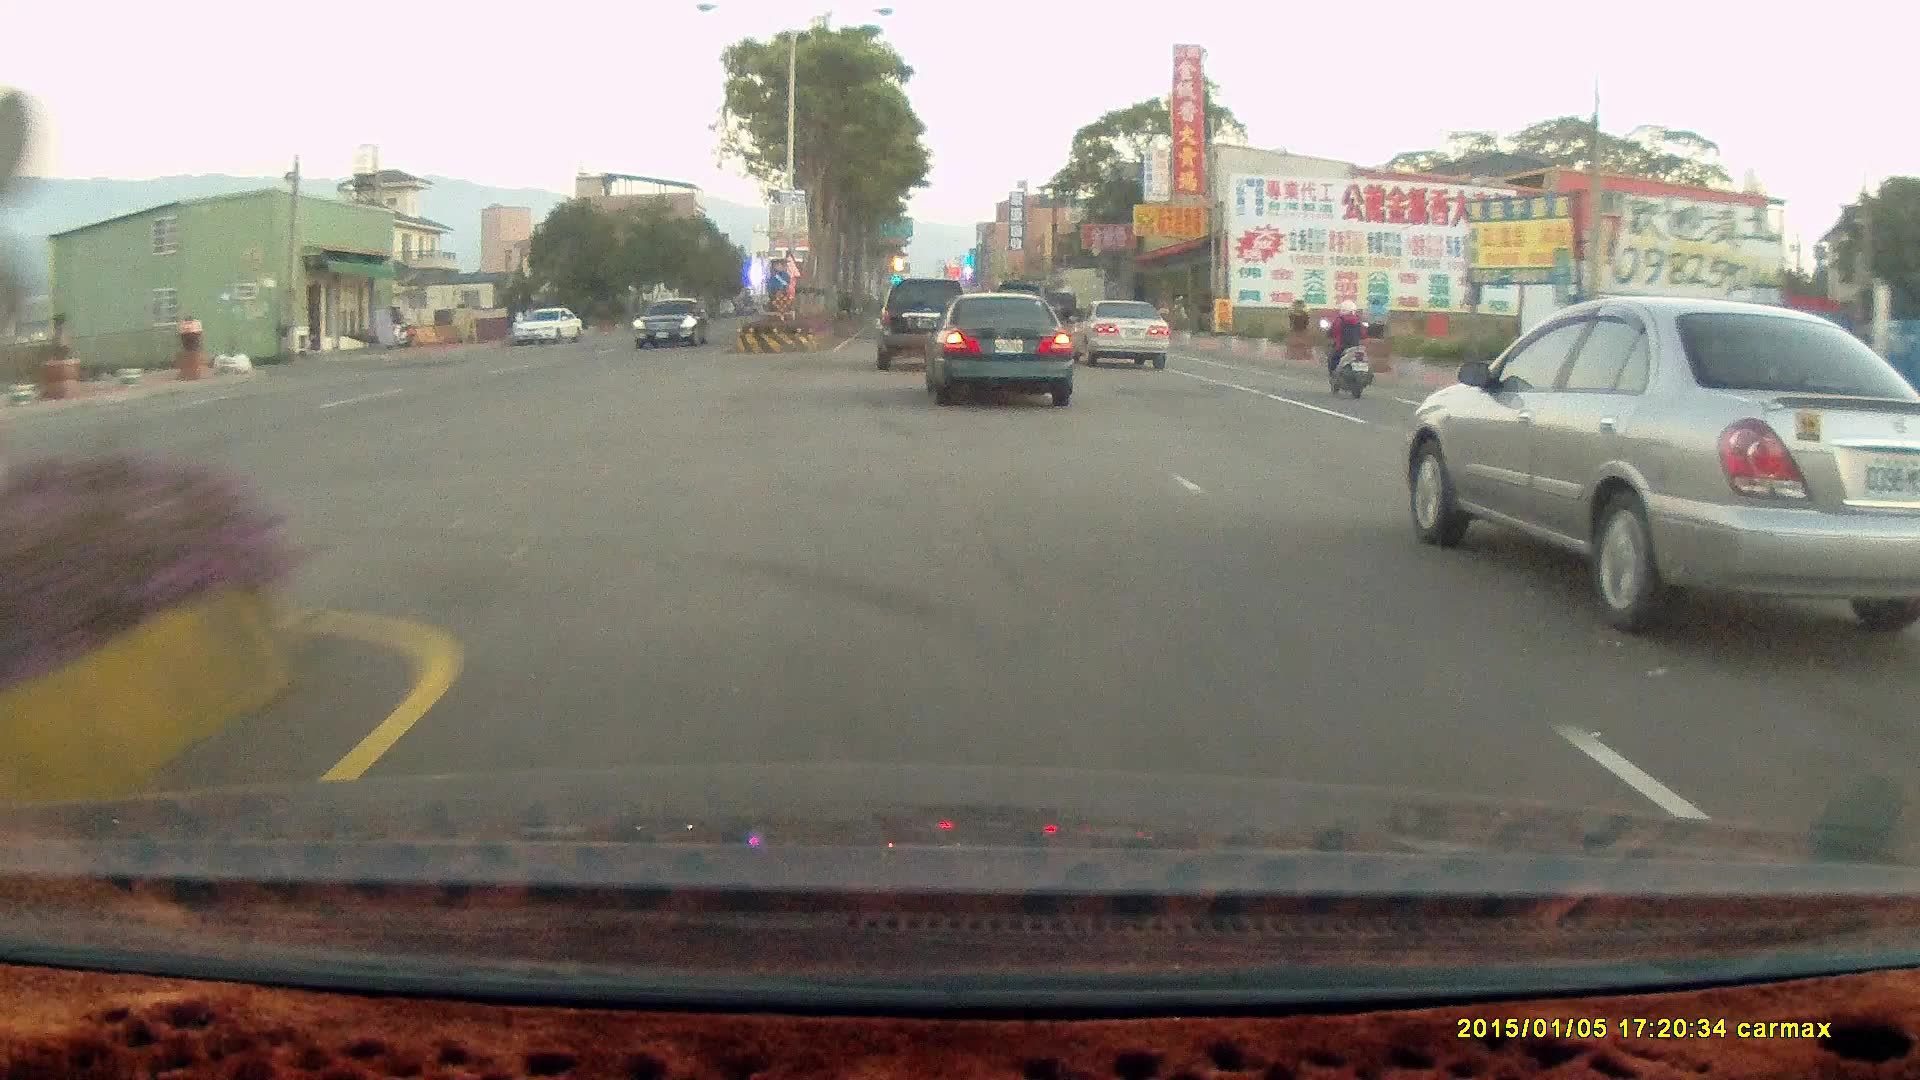rider: (1311, 291, 1387, 406), (1316, 296, 1372, 396)
vehicle: (1404, 295, 1920, 640), (919, 289, 1074, 404), (927, 298, 1075, 406), (880, 274, 976, 374), (876, 277, 970, 369), (1069, 298, 1171, 370), (1071, 301, 1173, 369), (633, 296, 710, 348), (635, 298, 712, 350), (514, 307, 584, 347), (512, 305, 583, 343)
